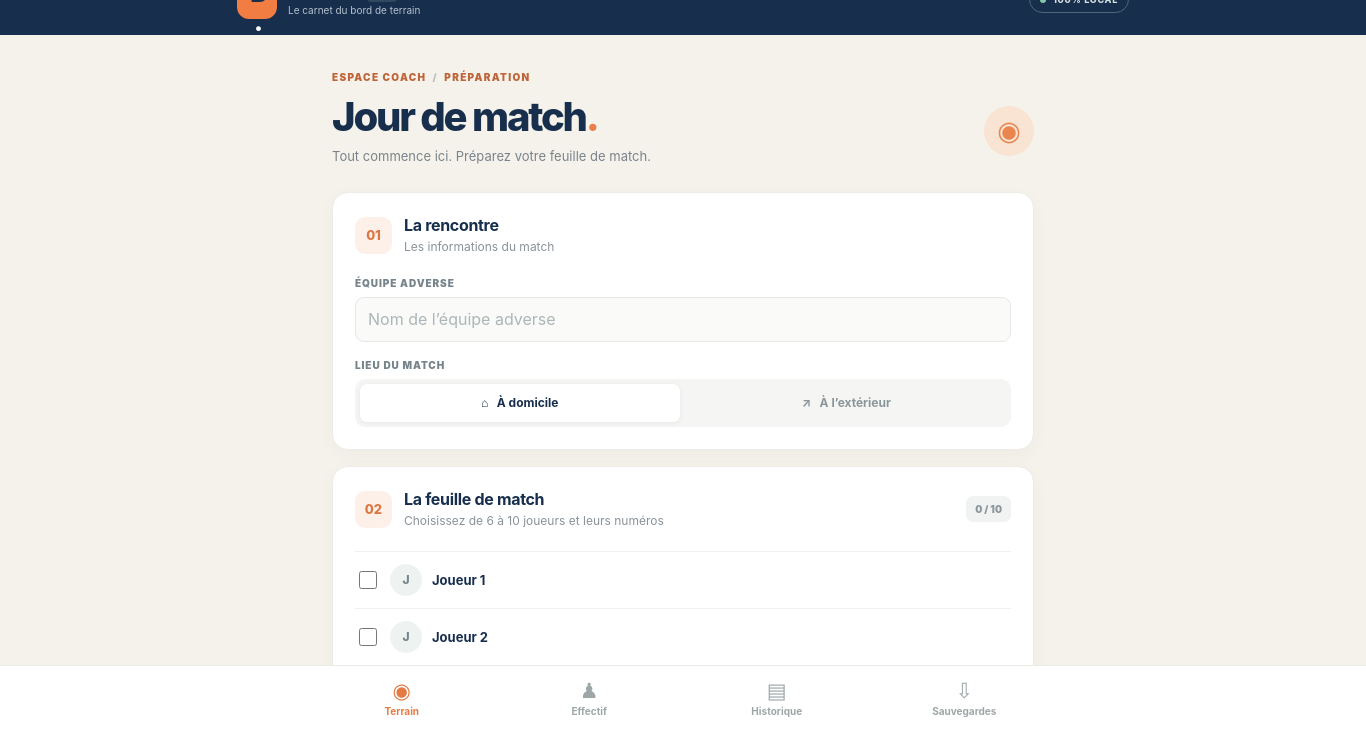
it: coach workflow › automatic file backup › keeps the local change and reports a failed file write
Check: the heading "Jour de match." is shown, box [332,92,598,141]
Click the button "♟ Effectif" at coordinates (589, 698), box [496,666,683,730]
(page scrolled)
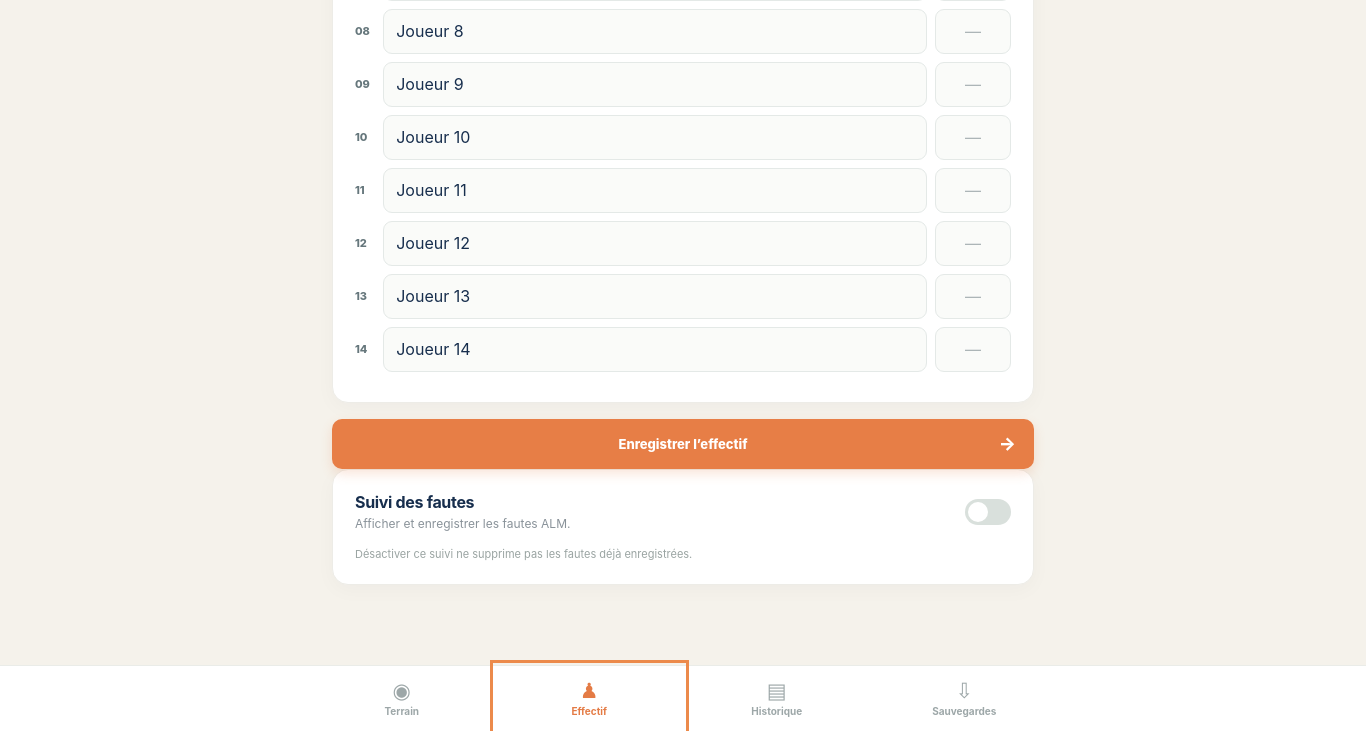
Click the checkbox named "Suivi des fautes" at coordinates (988, 512), box [965,499,1011,525]
(page scrolled)
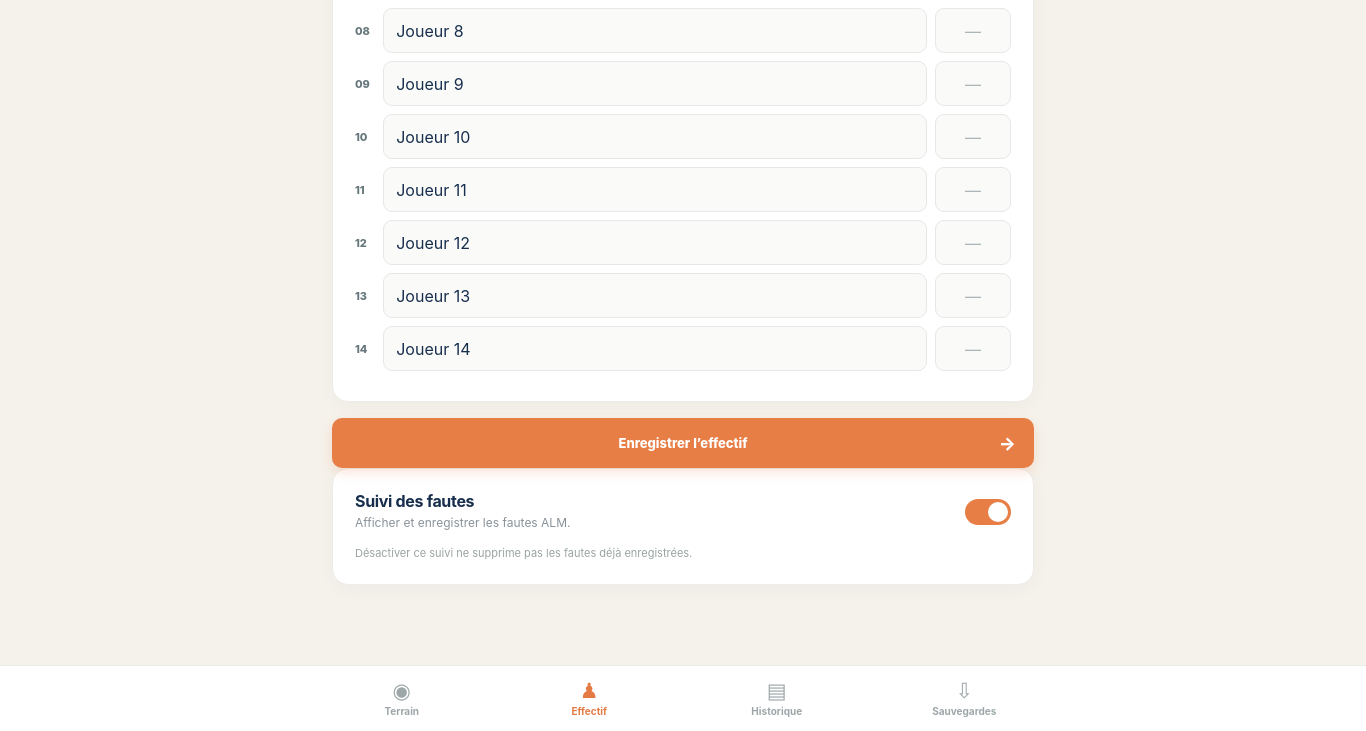
Click the button "⇩ Sauvegardes" at coordinates (964, 698), box [870,666,1058,730]
(page scrolled)
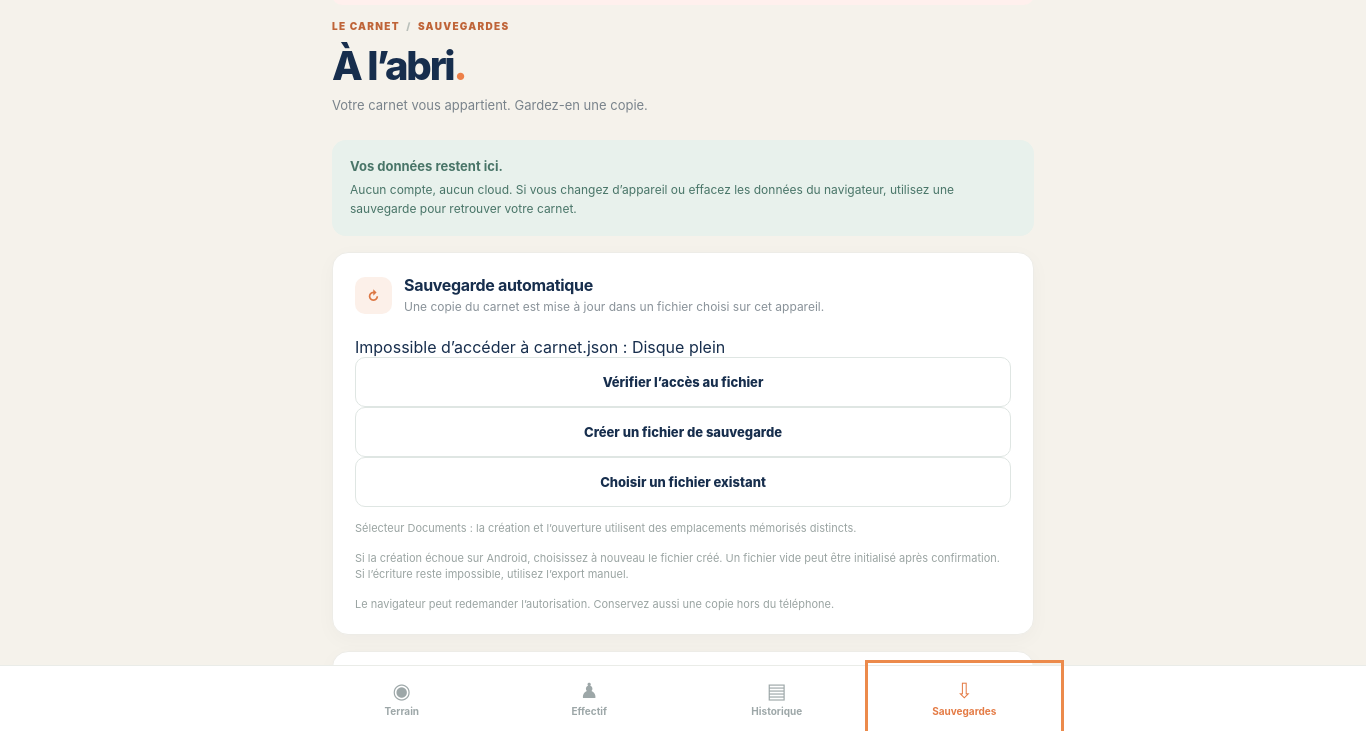
Check: the text "Impossible d’accéder à carnet.json : Disque plein" is shown, box [355,337,725,357]
